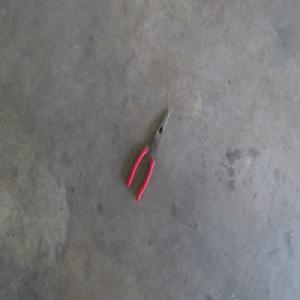Pliers: (125, 107, 171, 201)
